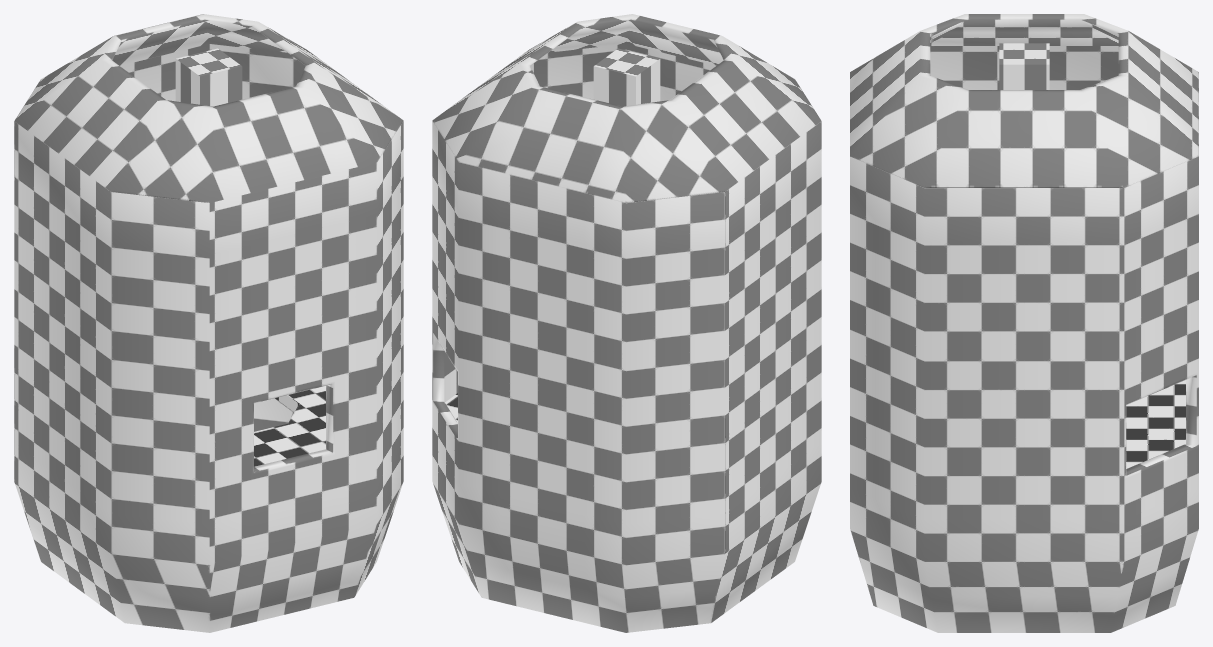
The model's file is Siilo.glb.
3 renders of one model, left to right at view 1: azimuth 30°, elevation 25°; view 2: azimuth 150°, elevation 25°; view 3: azimuth 270°, elevation 25°, orthographic. The views are drawn at different scales.
Visible parts, largest first — view 1: Cube, Cube.008; view 2: Cube; view 3: Cube, Cube.008.
Boxes of the visible parts, box(x1,y1,x2,y2) form: Cube: box(14, 14, 403, 632); Cube.008: box(254, 386, 325, 466); Cube: box(432, 14, 821, 632); Cube: box(850, 14, 1198, 632); Cube.008: box(1126, 380, 1185, 468).
Size of the model in its own units: 23.51 by 38.37 by 23.51.
2 materials, 2 textured.
